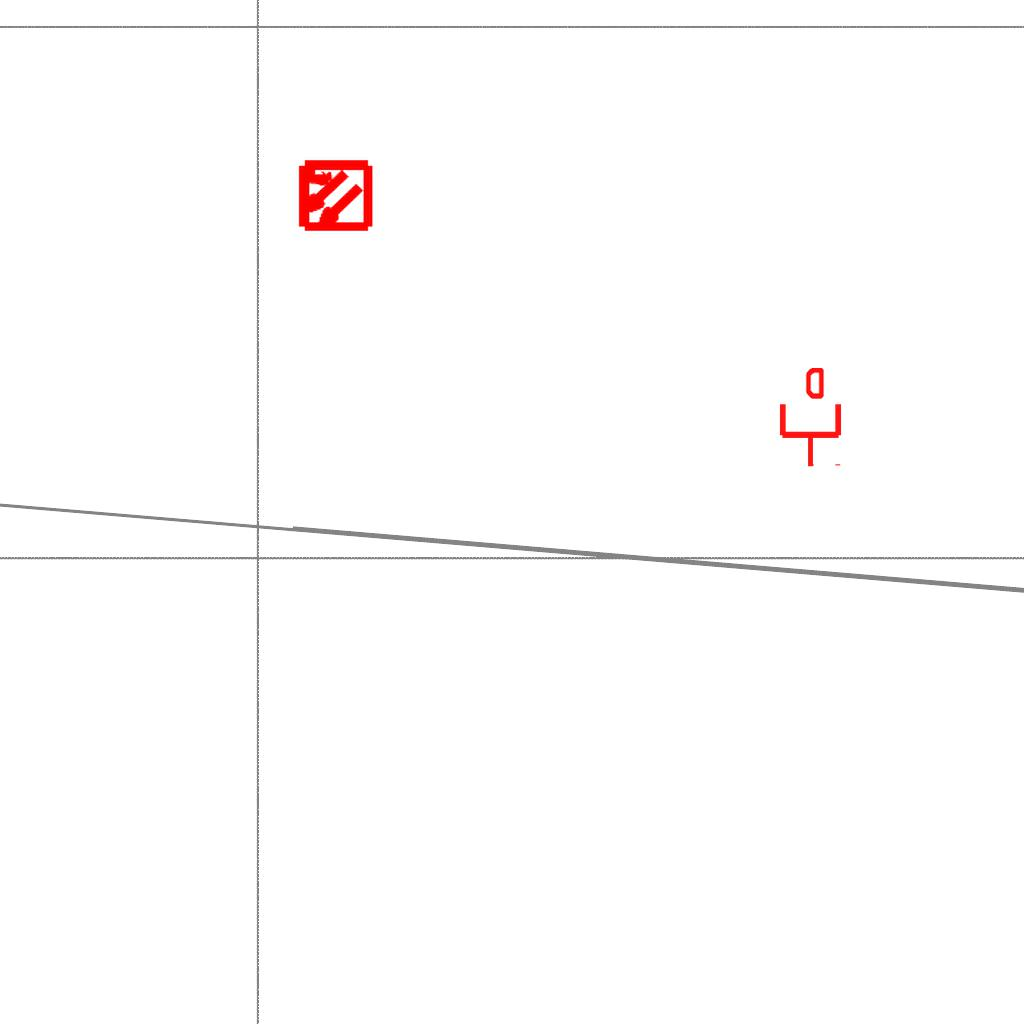Datenanschluss_einfach: (776, 368, 845, 468)
OT_Multisensormelder_(Kombination_RMO_WMD): (277, 139, 390, 252)
